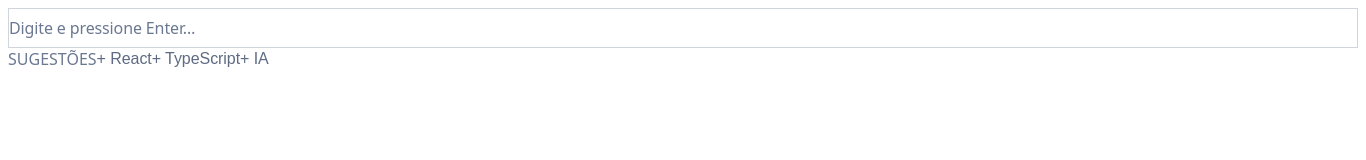
Scenario: <TagInput /> › renders suggestions, filters already-added ones, and adds on click
expect the list is shown: met, box [97, 50, 269, 68]
Click the button "+ React".
click(124, 59)  # box [97, 50, 152, 68]
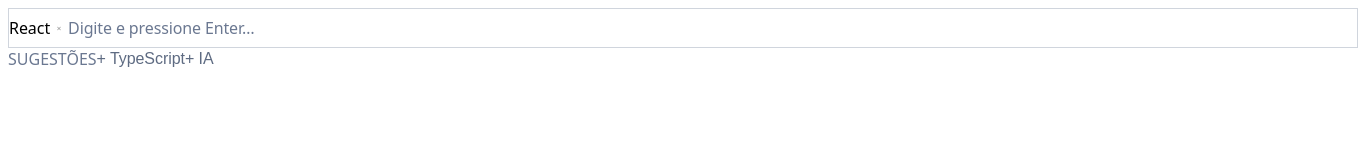
expect the text "React" is shown: met, box [9, 17, 50, 39]
expect the button "+ " no longer shows "+ React": met
